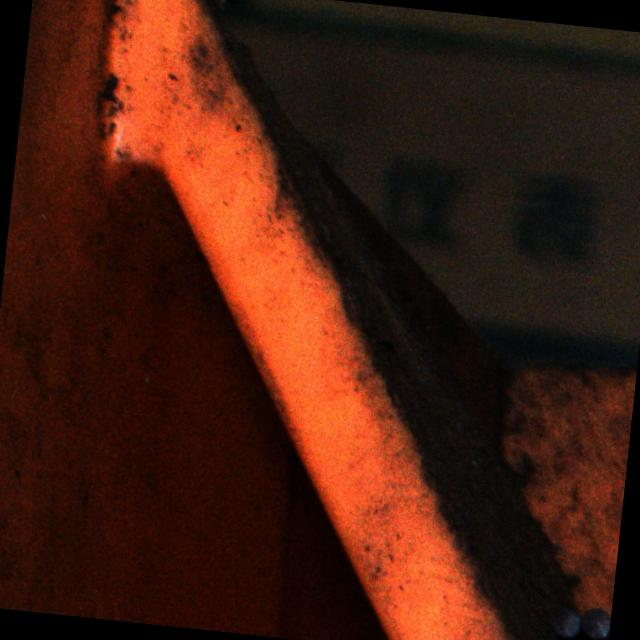tool: (547, 604, 583, 638), (580, 606, 612, 638)
